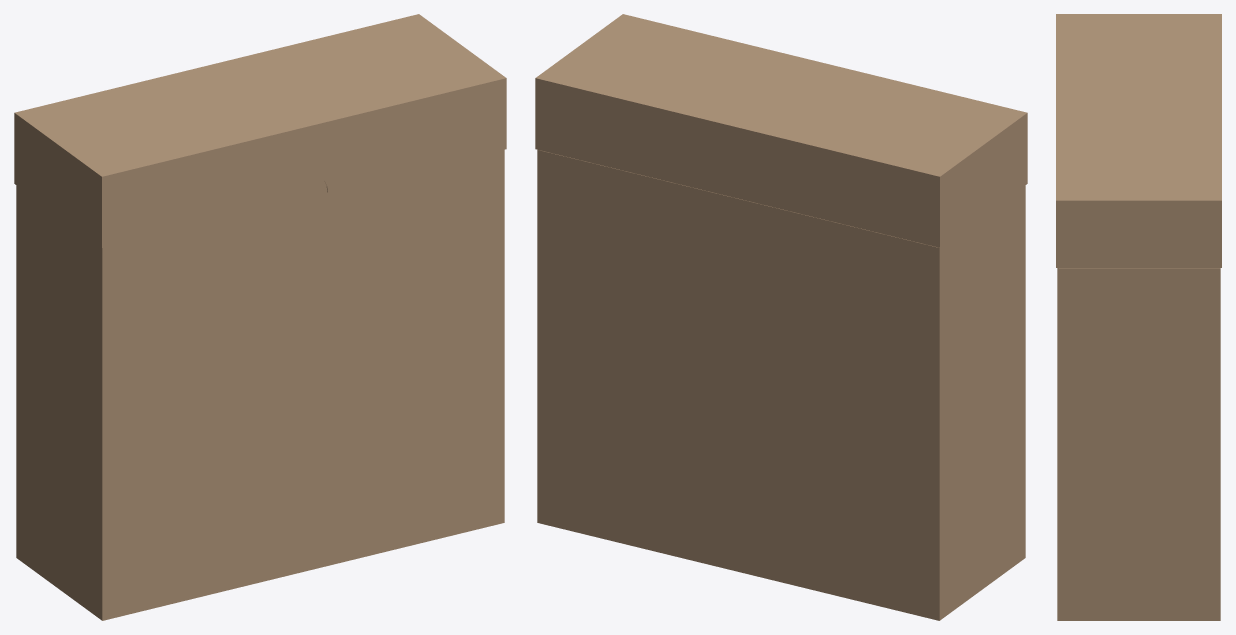
File: preroll-71_5gr-box-standart-closed.glb
3 views of the same model, side by side, from view 1: azimuth 30°, elevation 25°; view 2: azimuth 150°, elevation 25°; view 3: azimuth 270°, elevation 25° (orthographic). The views are drawn at different scales.
Visible parts, largest first — view 1: p15s_b1, p15s_l0, p15s_b3, p15s_l1, p15s_l3, p15s_b0; view 2: p15s_b2, p15s_l0, p15s_b3, p15s_l2, p15s_l3, p15s_b0; view 3: p15s_b4, p15s_l0, p15s_l4, p15s_b1, p15s_b2, p15s_l2, p15s_l1, p15s_b0.
Part boxes in pixels (left/top/right/bottom): p15s_b1: left=101, top=149, right=504, bottom=620; p15s_l0: left=14, top=14, right=506, bottom=177; p15s_b3: left=16, top=186, right=103, bottom=619; p15s_l1: left=101, top=78, right=506, bottom=247; p15s_l3: left=14, top=113, right=103, bottom=247; p15s_b0: left=16, top=521, right=504, bottom=620; p15s_b2: left=537, top=150, right=940, bottom=620; p15s_l0: left=535, top=14, right=1027, bottom=177; p15s_b3: left=938, top=186, right=1024, bottom=620; p15s_l2: left=535, top=79, right=940, bottom=247; p15s_l3: left=938, top=112, right=1027, bottom=246; p15s_b0: left=537, top=521, right=1024, bottom=620; p15s_b4: left=1057, top=268, right=1220, bottom=619; p15s_l0: left=1056, top=14, right=1221, bottom=202; p15s_l4: left=1056, top=200, right=1221, bottom=267; p15s_b1: left=1057, top=268, right=1058, bottom=619; p15s_b2: left=1219, top=268, right=1220, bottom=619; p15s_l2: left=1220, top=14, right=1221, bottom=267; p15s_l1: left=1056, top=14, right=1057, bottom=267; p15s_b0: left=1057, top=619, right=1220, bottom=620.
Bounding box in the file's own units: 0.1192 × 0.1253 × 0.0447.
